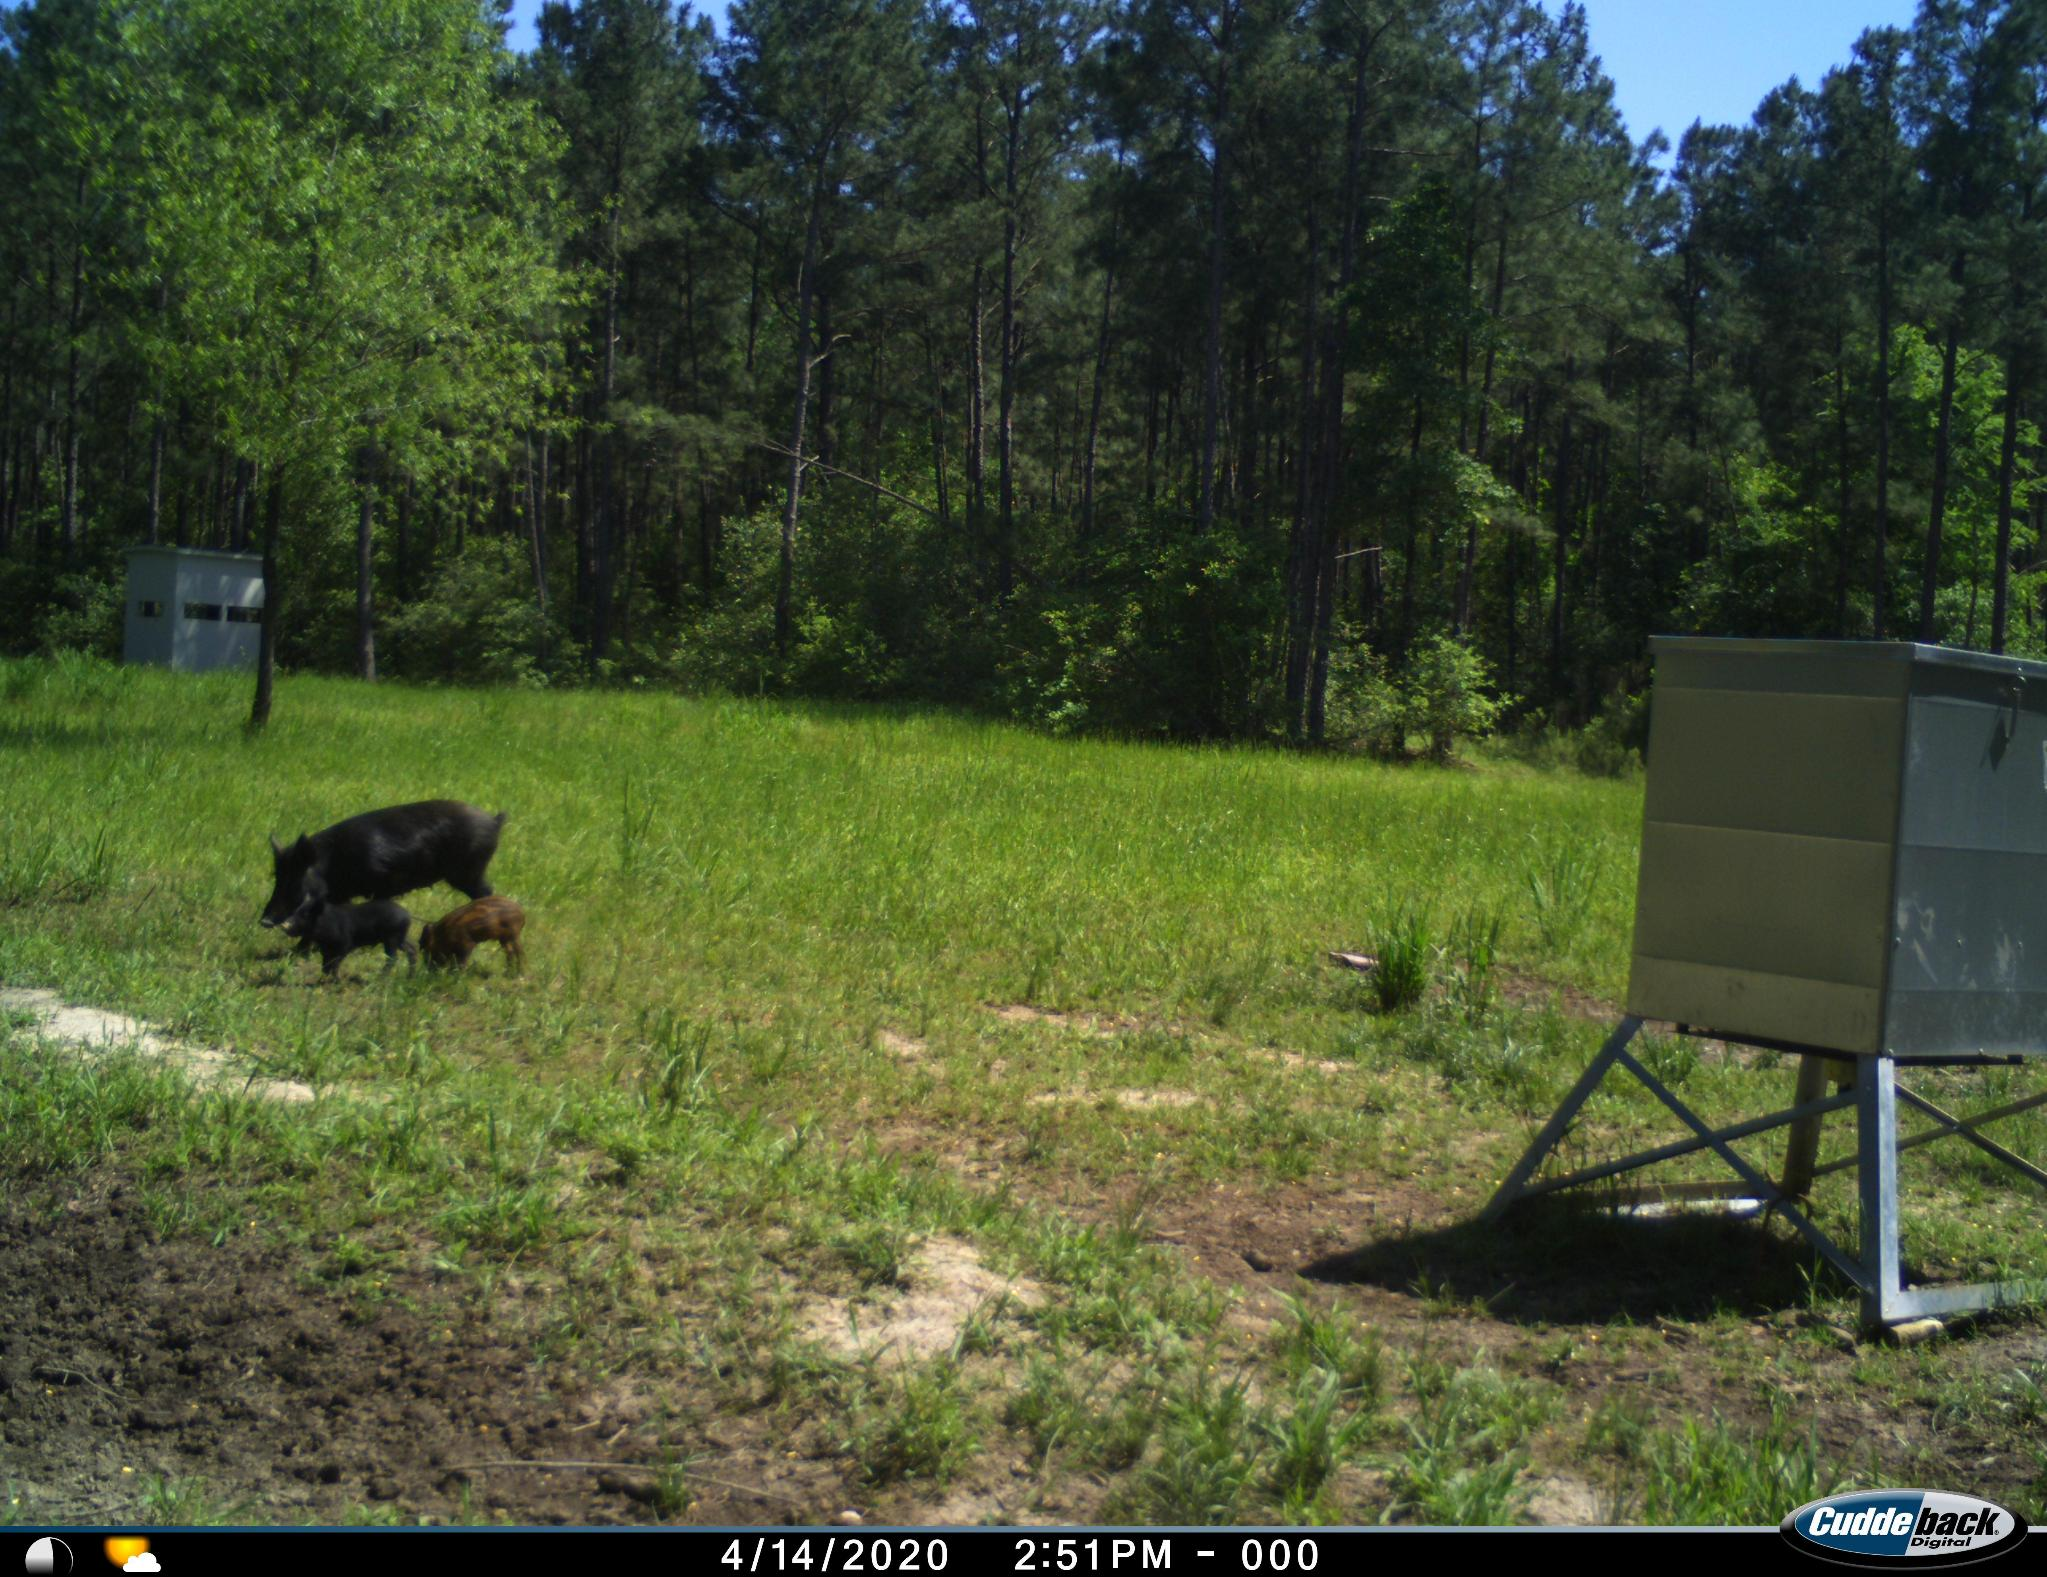Hog: (243, 797, 522, 956), (275, 893, 416, 977), (417, 891, 533, 986)
